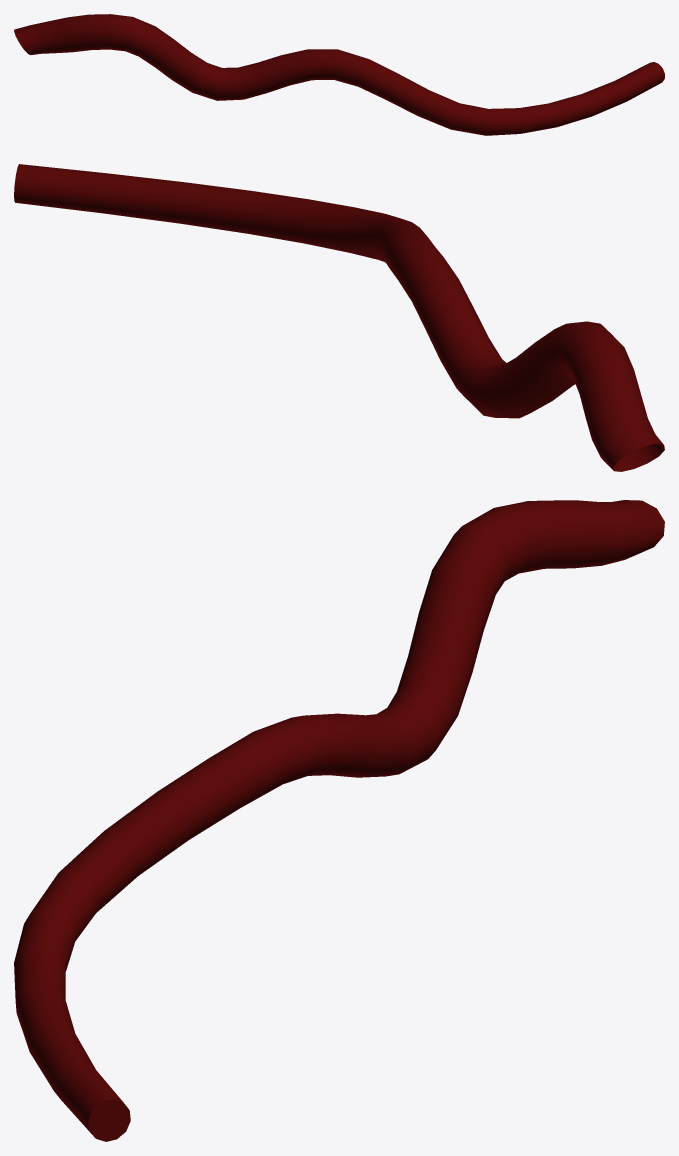
The model's file is Splenic_Artery.FBX.
3 views of the same model, one above another, from view 1: azimuth 30°, elevation 25°; view 2: azimuth 150°, elevation 25°; view 3: azimuth 270°, elevation 25° (orthographic). The views are drawn at different scales.
Visible parts, largest first — view 1: Splenic_Artery-Snapshot; view 2: Splenic_Artery-Snapshot; view 3: Splenic_Artery-Snapshot.
Part boxes in pixels (x1,y1,x2,y2): Splenic_Artery-Snapshot: (14,14,664,135); Splenic_Artery-Snapshot: (14,164,664,471); Splenic_Artery-Snapshot: (14,500,664,1141).
Size of the model in its own units: 65.57 by 12.79 by 36.42.
